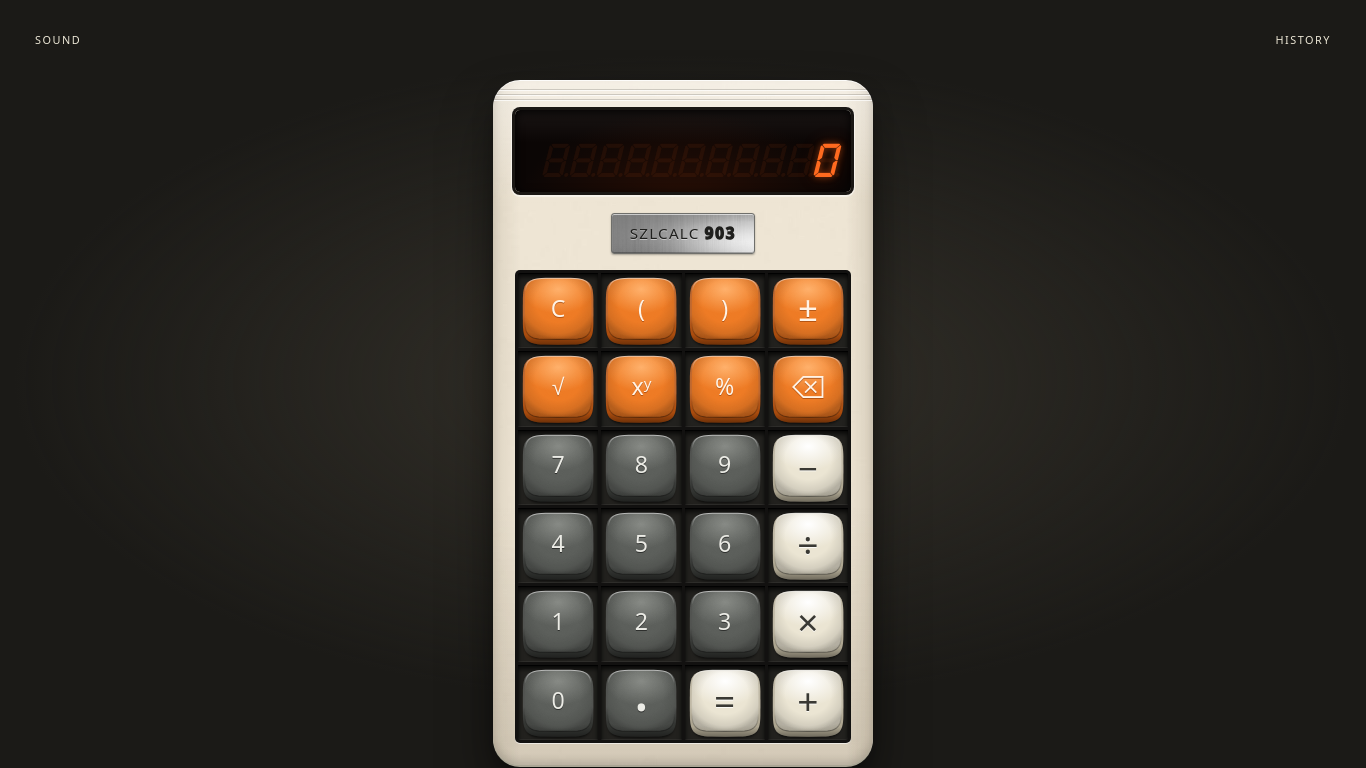
App › ignores a trailing operator on equals
Click the button "2" at (641, 624), box [601,586,682,662]
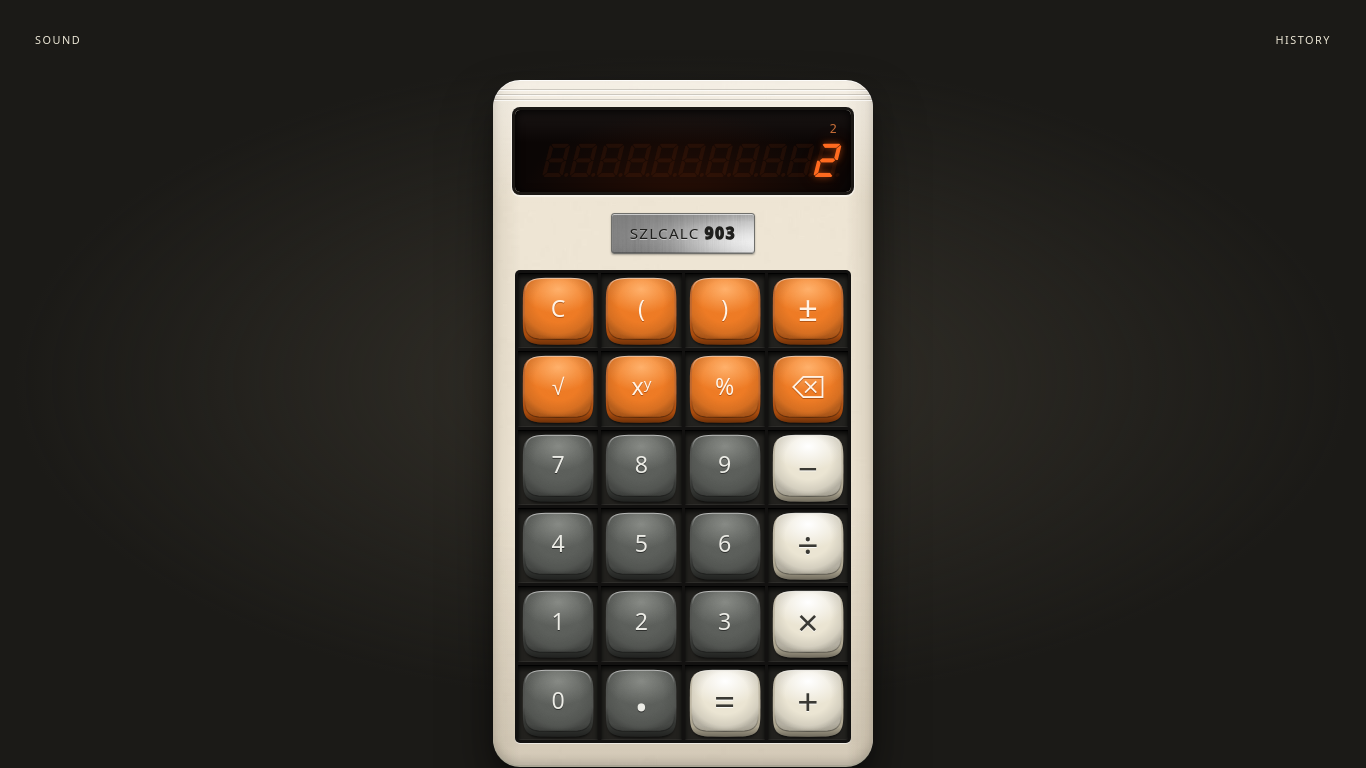
Click the button named "plus" at (808, 703), box [768,665,848,740]
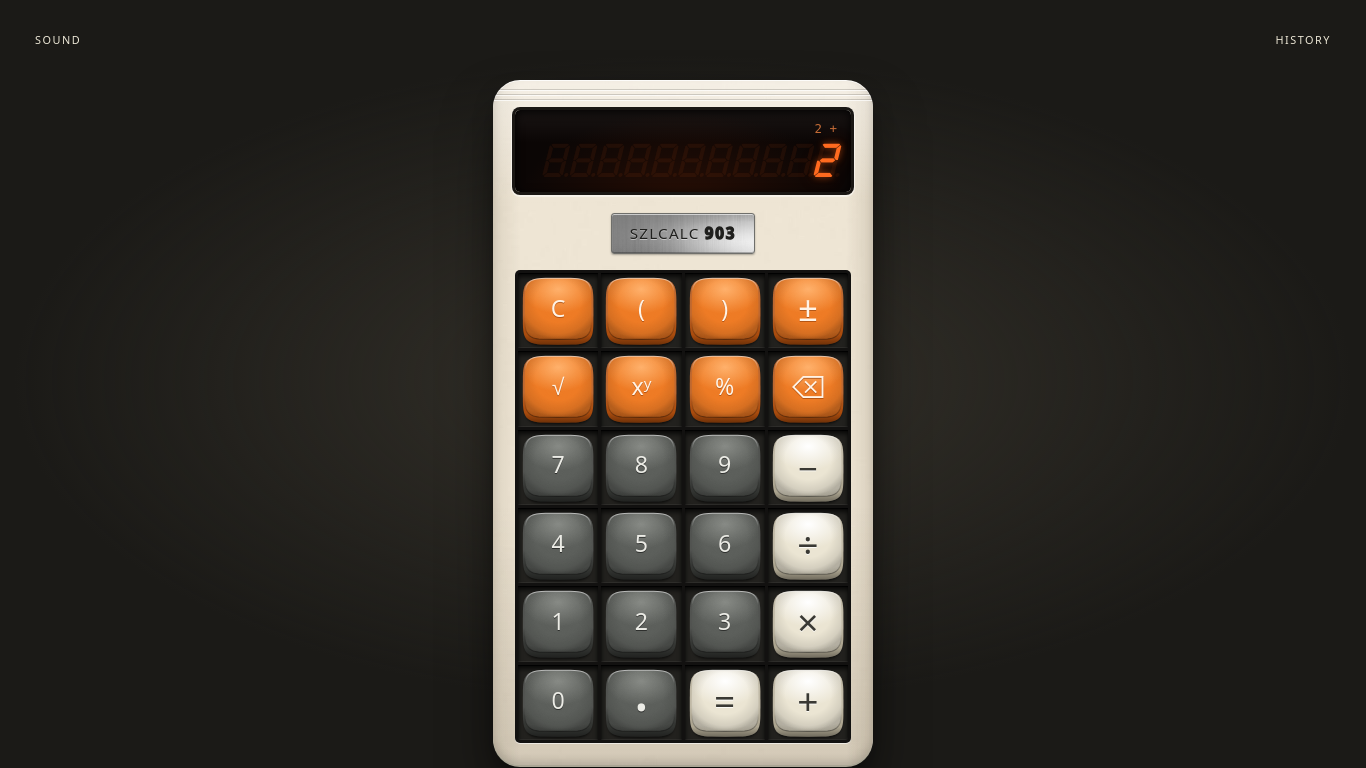
Click the button "3" at (725, 624), box [684,586,765,662]
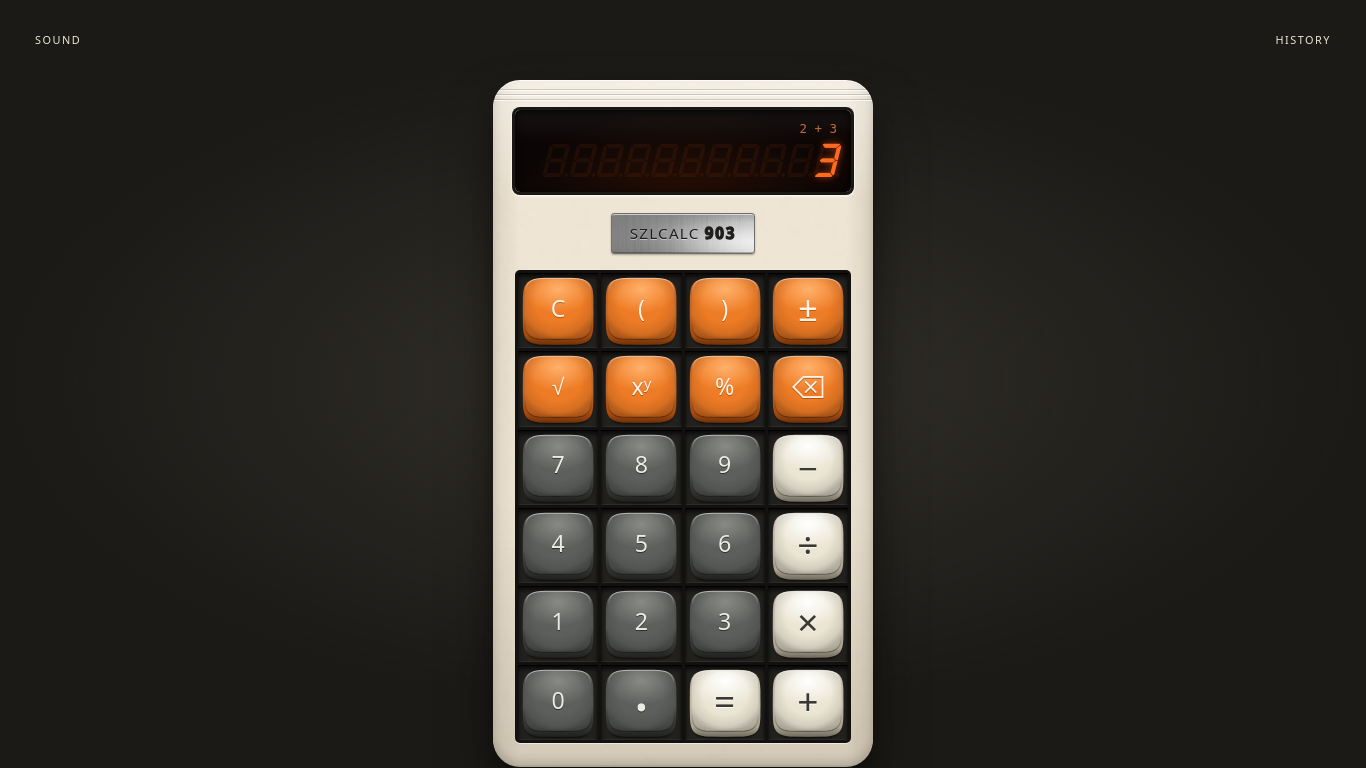
Click the button named "times" at (808, 624), box [768,586,848,662]
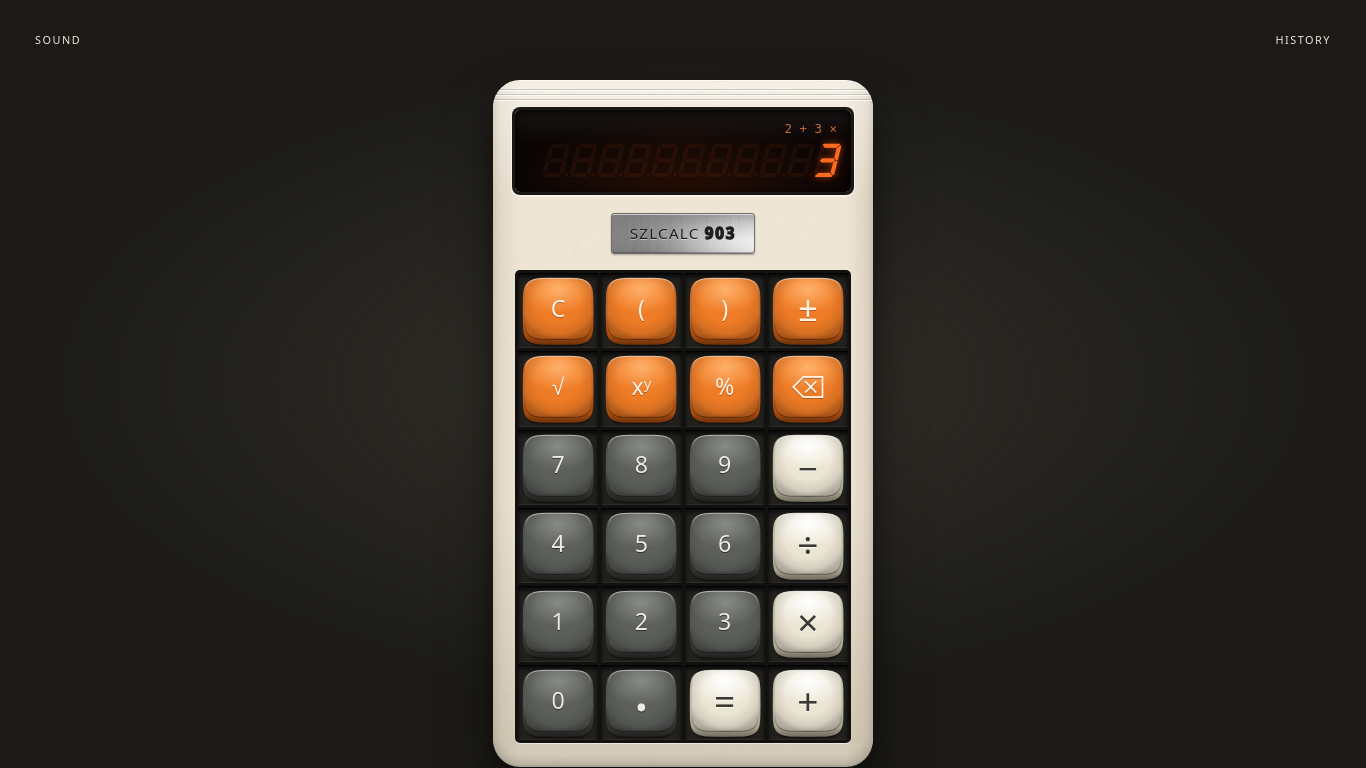
Click the button named "equals" at (725, 703), box [684,665,765,740]
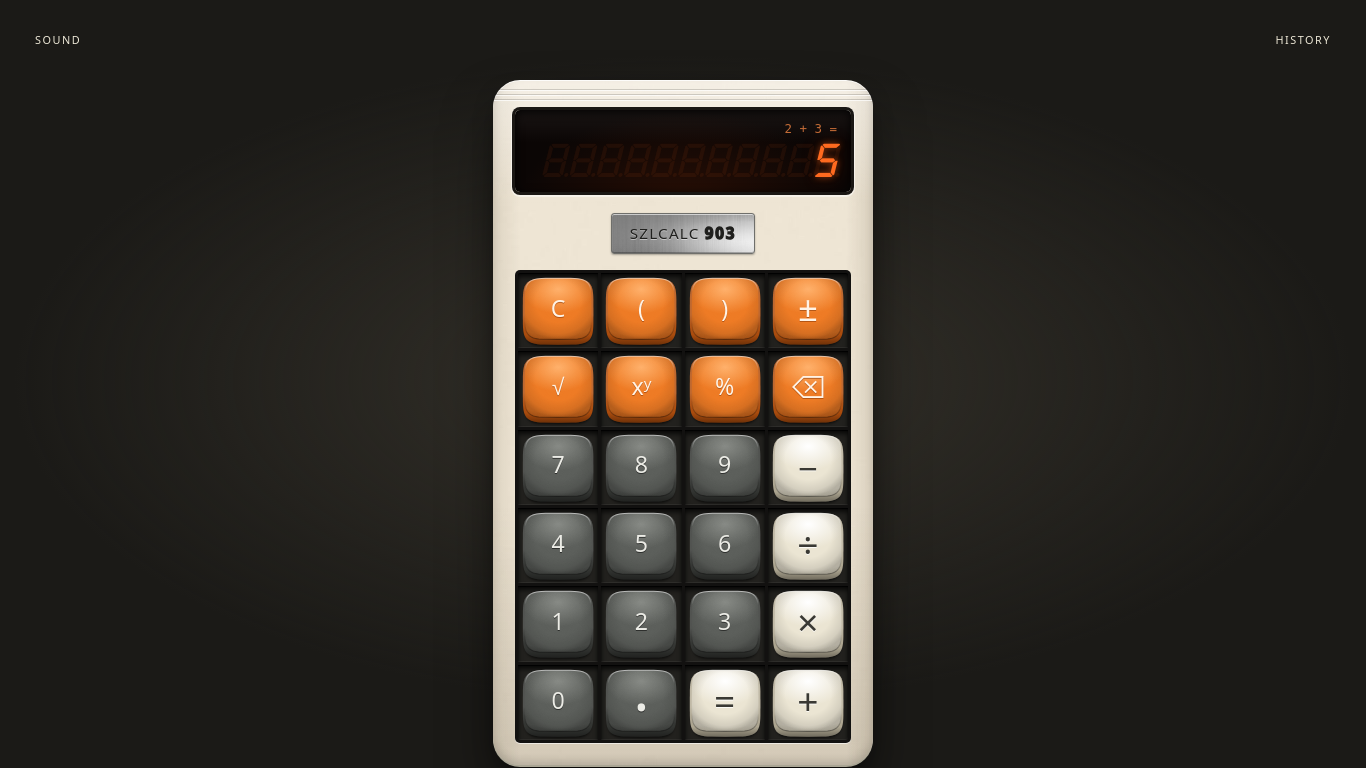
Now the element named "Expression: 2 + 3 =" is shown, box [784,121,837,136]
